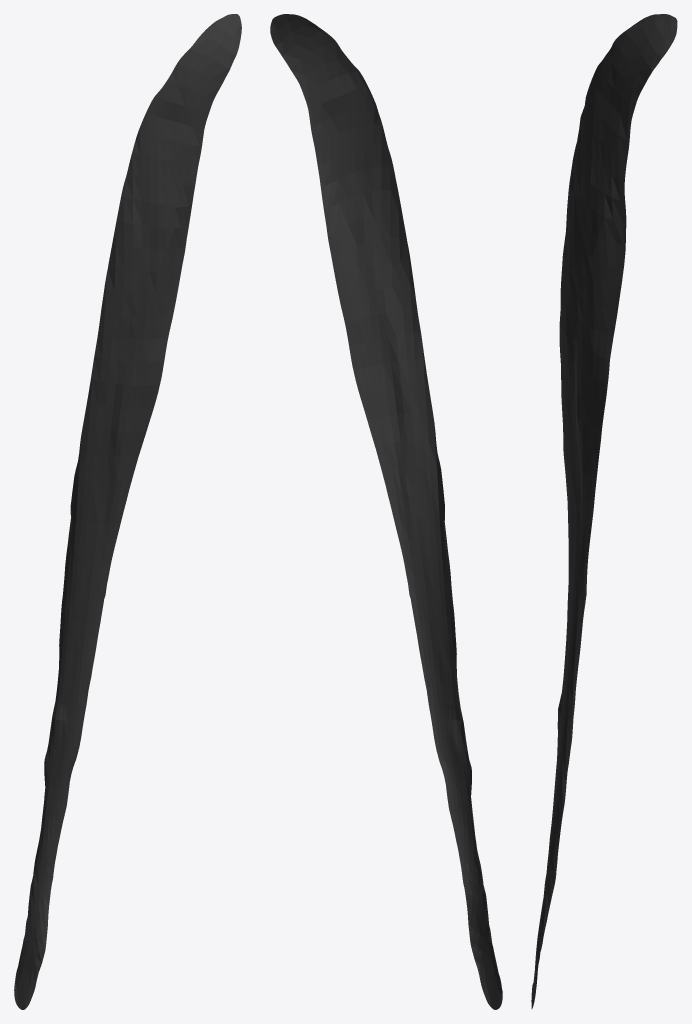
The model's file is CDE.glb.
3 renders of one model, left to right at view 1: azimuth 30°, elevation 25°; view 2: azimuth 210°, elevation 25°; view 3: azimuth 330°, elevation 25°, orthographic. The views are drawn at different scales.
Visible parts, largest first — view 1: CDE; view 2: CDE; view 3: CDE.
Part boxes in pixels (box(x1,y1,x2,y2)): CDE: box(14, 14, 241, 1009); CDE: box(270, 14, 502, 1009); CDE: box(531, 14, 677, 1009).
Bounding box in the file's own units: 0.0583 × 0.3042 × 0.03.
Materials: 1 (1 with a texture image).
